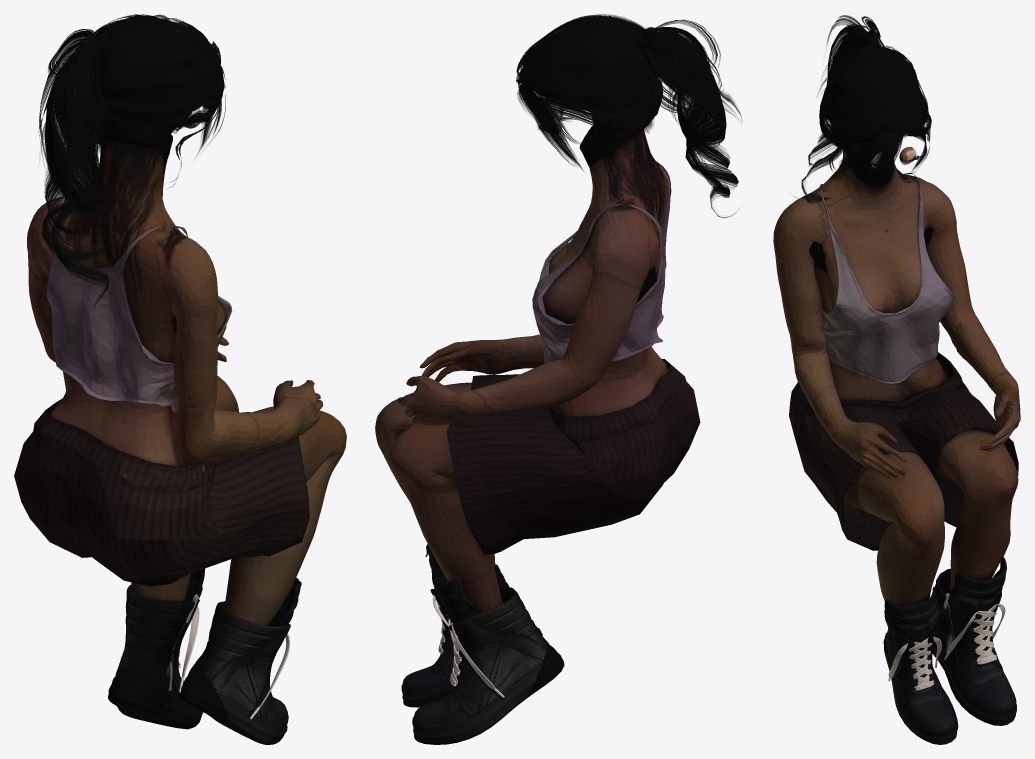
The model's file is IMONLOKI.glb.
3 renders of one model, left to right at view 1: azimuth 30°, elevation 25°; view 2: azimuth 150°, elevation 25°; view 3: azimuth 270°, elevation 25°, orthographic. The views are drawn at different scales.
Parts seen in each view (by area): view 1: main body, Shorts, Hair, Tank top, Laces and zipper.001, defaultMaterial 1, Laces and zipper 1; view 2: main body, Shorts, Hair, defaultMaterial 1, Tank top, Laces and zipper.001, Laces and zipper 1; view 3: main body, Shorts, Hair, Tank top, defaultMaterial 1, Laces and zipper.001, Laces and zipper 1, Laces and zipper.002.
Boxes of the visible parts, x1,y1,x2,y2 form: main body: [27, 134, 346, 692]; Shorts: [14, 398, 309, 586]; Hair: [38, 14, 225, 311]; Tank top: [46, 188, 232, 415]; Laces and zipper.001: [179, 577, 301, 744]; defaultMaterial 1: [108, 568, 205, 729]; Laces and zipper 1: [168, 594, 199, 692]; main body: [375, 124, 671, 681]; Shorts: [446, 358, 700, 554]; Hair: [516, 14, 741, 218]; defaultMaterial 1: [412, 568, 564, 744]; Tank top: [532, 166, 670, 363]; Laces and zipper.001: [401, 544, 542, 707]; Laces and zipper 1: [446, 614, 504, 697]; main body: [773, 141, 1020, 695]; Shorts: [789, 352, 1018, 550]; Hair: [794, 15, 931, 198]; Tank top: [820, 172, 954, 384]; defaultMaterial 1: [932, 557, 1016, 725]; Laces and zipper.001: [883, 586, 958, 744]; Laces and zipper 1: [943, 593, 1005, 664]; Laces and zipper.002: [888, 636, 942, 690].
Bounding box in the file's own units: 0.5495 × 1.18 × 0.4195.
Materials: 8 (8 with a texture image).
